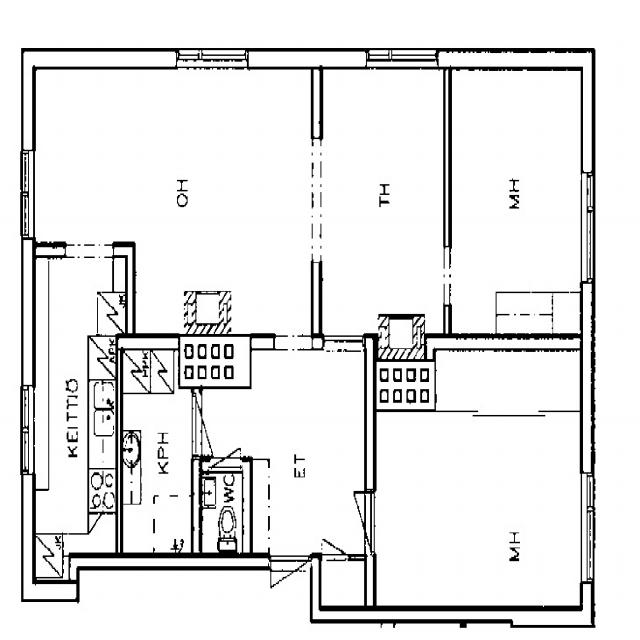door: (326, 492, 376, 552), (191, 396, 240, 455), (271, 552, 308, 628), (210, 412, 240, 472), (322, 517, 345, 560)
